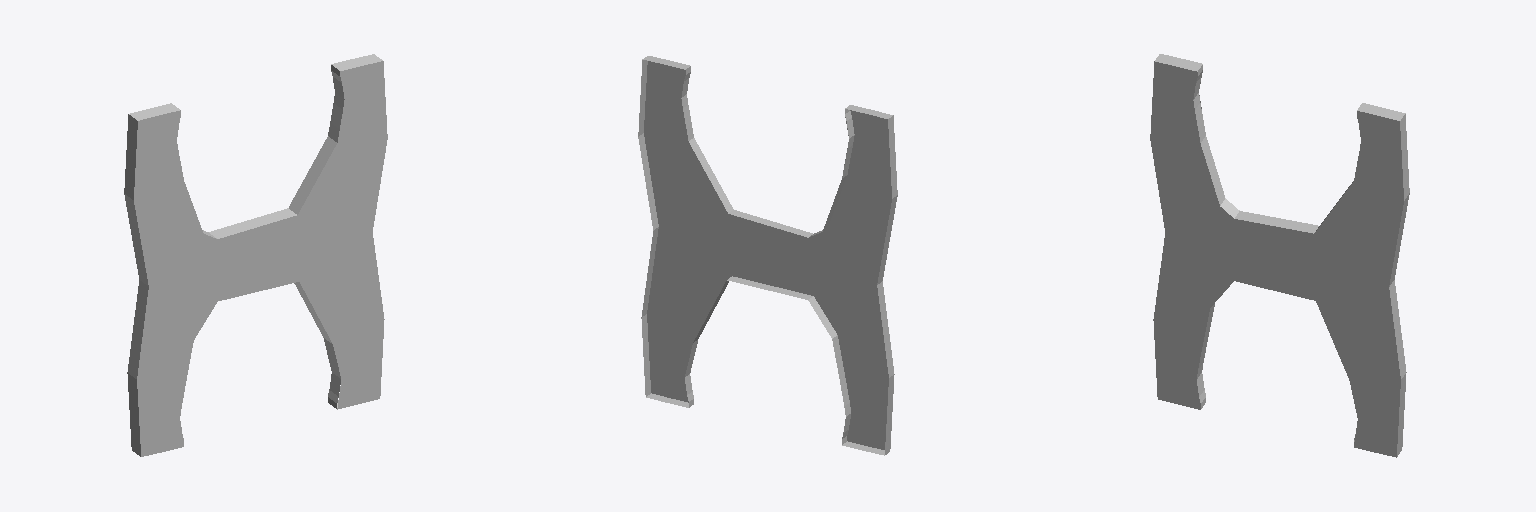
The model's file is bottom_hull_phy.obj.
The picture shows the model from 3 angles: view 1: azimuth 30°, elevation 25°; view 2: azimuth 150°, elevation 25°; view 3: azimuth 330°, elevation 25°; orthographic projection.
Parts seen in each view (by area): view 1: Bottom_Hull_phy; view 2: Bottom_Hull_phy; view 3: Bottom_Hull_phy.
Part boxes in pixels (x1,y1,x2,y2): Bottom_Hull_phy: (124,54,387,456); Bottom_Hull_phy: (638,56,897,455); Bottom_Hull_phy: (1150,54,1409,457).
Bounding box in the file's own units: 0.2513 × 0.3185 × 0.0129.